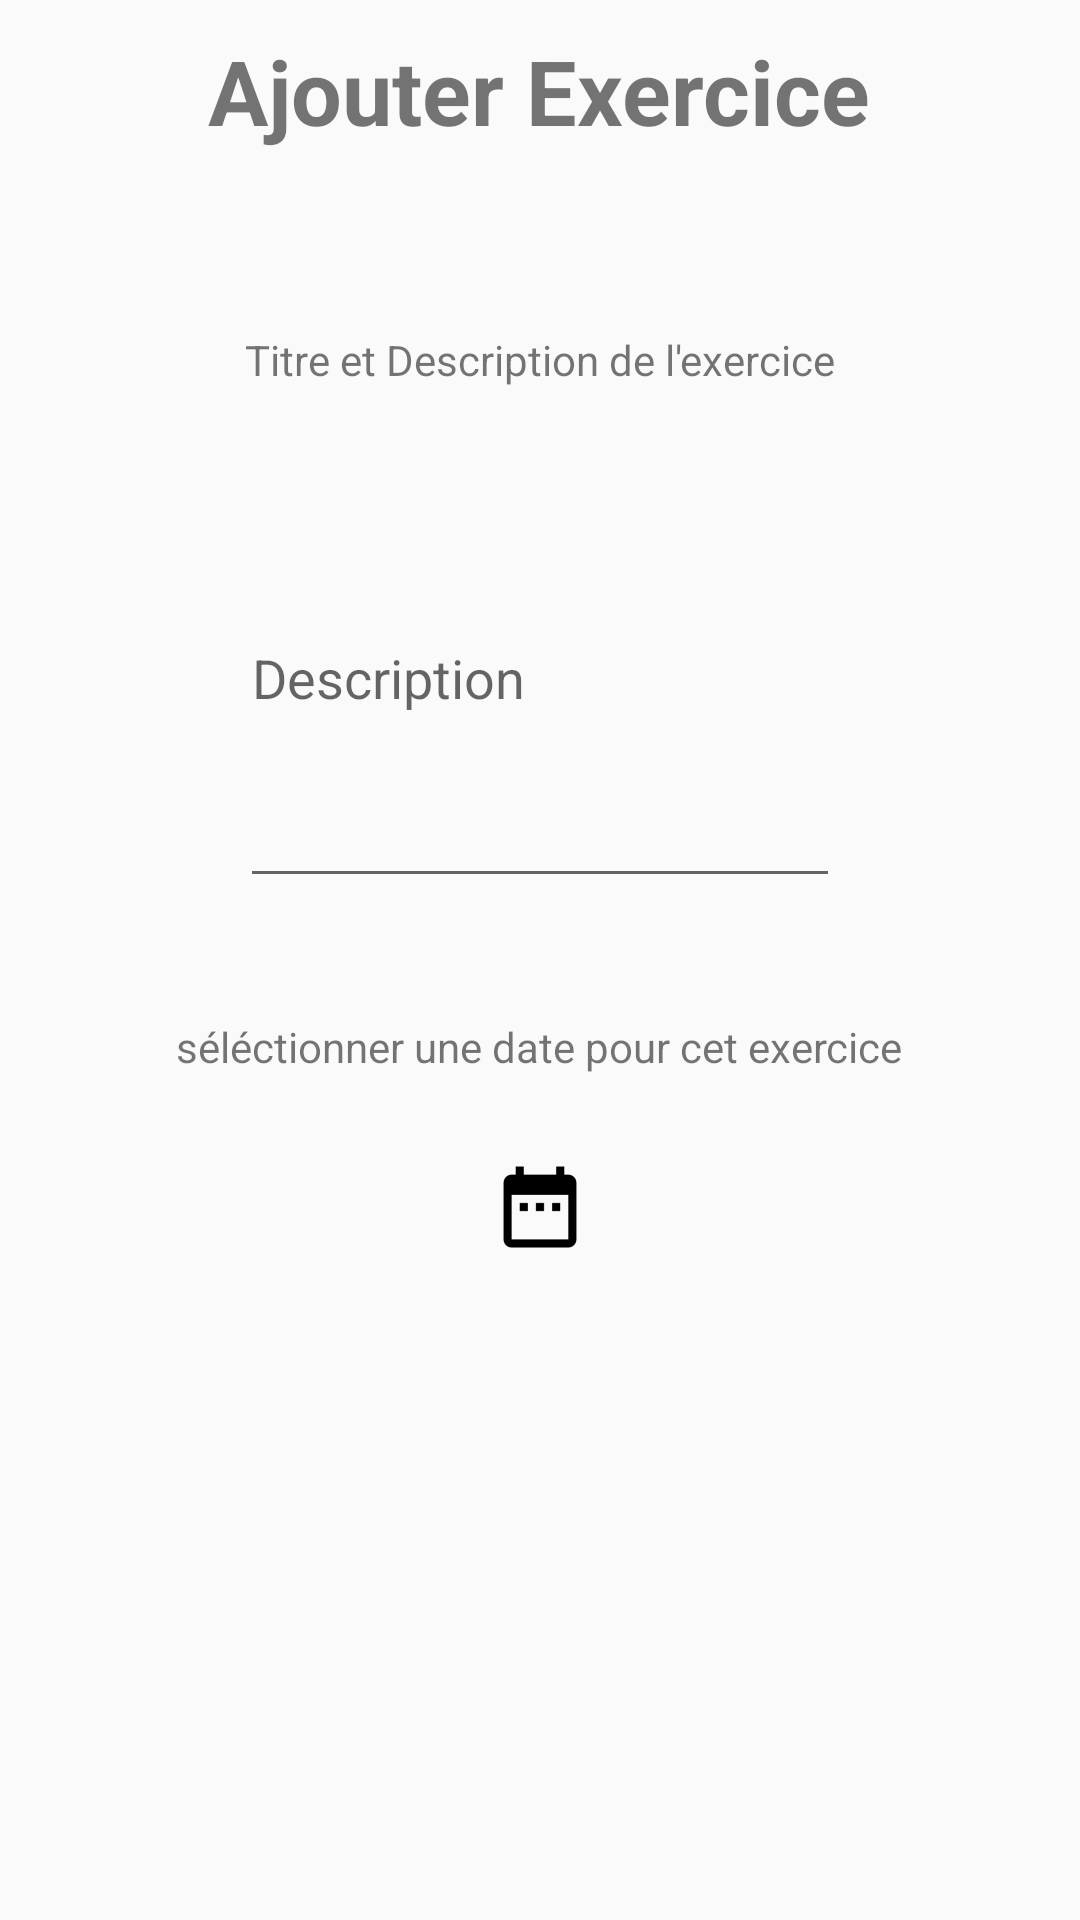

Icons on this 1080 × 1920 Android screen, each with its box as [x1=x1, y1=y1, x2=x2, y2=y2]:
date picker: [x1=503, y1=1166, x2=577, y2=1248]
